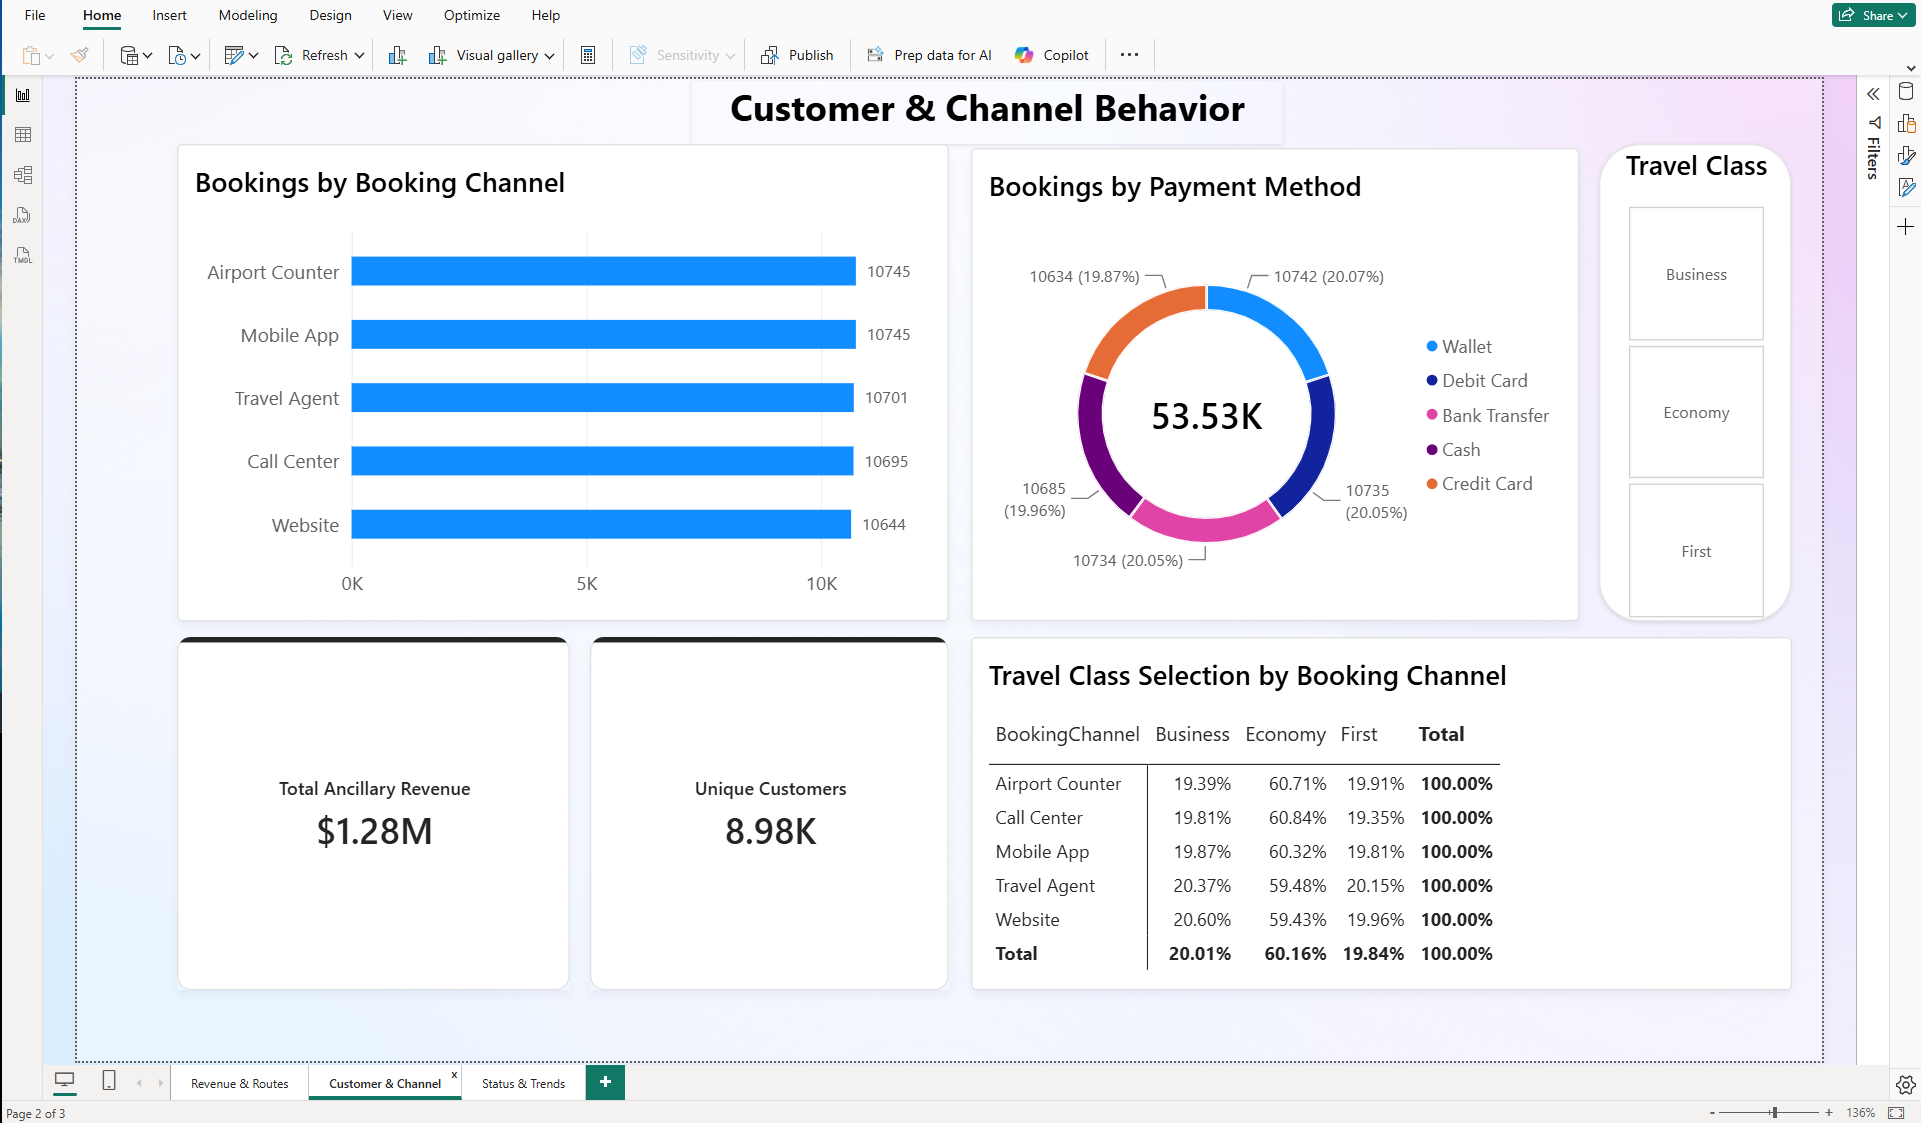

The page's visual inventory and layout, read from the dashboard file:
{"tool":"powerbi","page":{"name":"Customer & Channel","canvas":[1280,720],"ordinal":1},"visuals":[{"type":"textbox","box":[450.7,1.4,433.4,46.1],"z":0},{"type":"slicer","title":"Travel Class","fields":{"Values":["Fact_TicketSales.TravelClass"]},"box":[1116,47.5,141.1,349.9],"z":1000},{"type":"clusteredBarChart","title":"Bookings by Booking Channel","fields":{"Category":["Fact_TicketSales.BookingChannel"],"Y":["CountNonNull(Fact_TicketSales.TicketID)"]},"box":[73.4,47.5,565.9,349.9],"z":2000},{"type":"donutChart","title":"Bookings by Payment Method","fields":{"Category":["Fact_TicketSales.PaymentMethod"],"Y":["CountNonNull(Fact_TicketSales.TicketID)"]},"box":[655.2,50.4,446.4,347],"z":3000},{"type":"cardVisual","fields":{"Data":["Sum(Fact_TicketSales.AncillaryRevenue)"]},"box":[73.4,409,288,259.2],"z":4000},{"type":"cardVisual","fields":{"Data":["Count(Fact_TicketSales.CustomerID)"]},"box":[375.8,409,263.5,259.2],"z":5000},{"type":"pivotTable","title":"Travel Class Selection by Booking Channel","fields":{"Columns":["Fact_TicketSales.TravelClass"],"Rows":["Fact_TicketSales.BookingChannel"],"Values":["Min(Fact_TicketSales.TicketID)"]},"box":[655.2,409,601.9,259.2],"z":6000}]}

Visuals, with their boxes on the page's 1280x720 design canvas (x1, y1, x2, y2). These are canvas units, not pixel positions in the 1921x1123 screenshot, which may show the page scaled, cropped or inside an application window:
textbox: (left=451, top=1, right=884, bottom=48)
"Travel Class" slicer: (left=1116, top=48, right=1257, bottom=397)
"Bookings by Booking Channel" clusteredBarChart: (left=73, top=48, right=639, bottom=397)
"Bookings by Payment Method" donutChart: (left=655, top=50, right=1102, bottom=397)
cardVisual - Sum(Fact_TicketSales.AncillaryRevenue): (left=73, top=409, right=361, bottom=668)
cardVisual - Count(Fact_TicketSales.CustomerID): (left=376, top=409, right=639, bottom=668)
"Travel Class Selection by Booking Channel" pivotTable: (left=655, top=409, right=1257, bottom=668)
